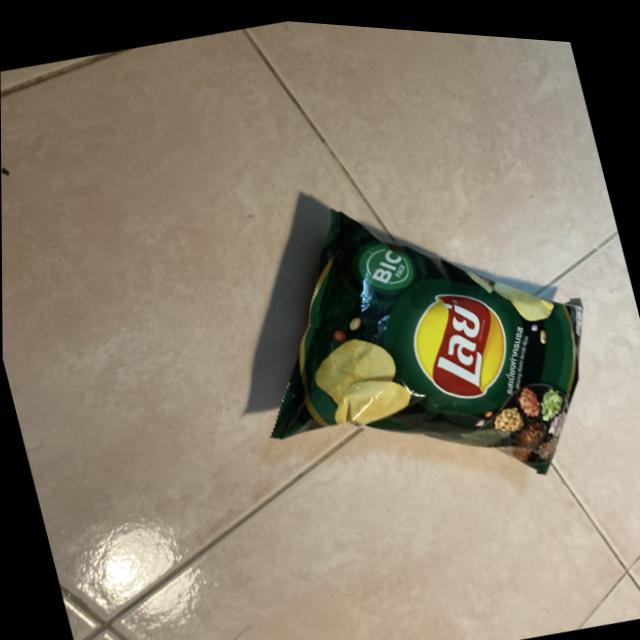Laygreen: (213, 124, 640, 535)
